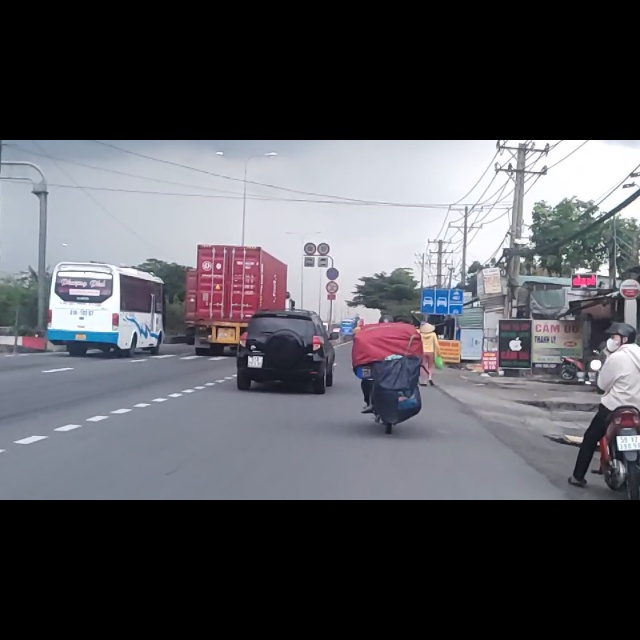bien_cam: (421, 263, 463, 312), (325, 226, 339, 249), (326, 251, 339, 274)
